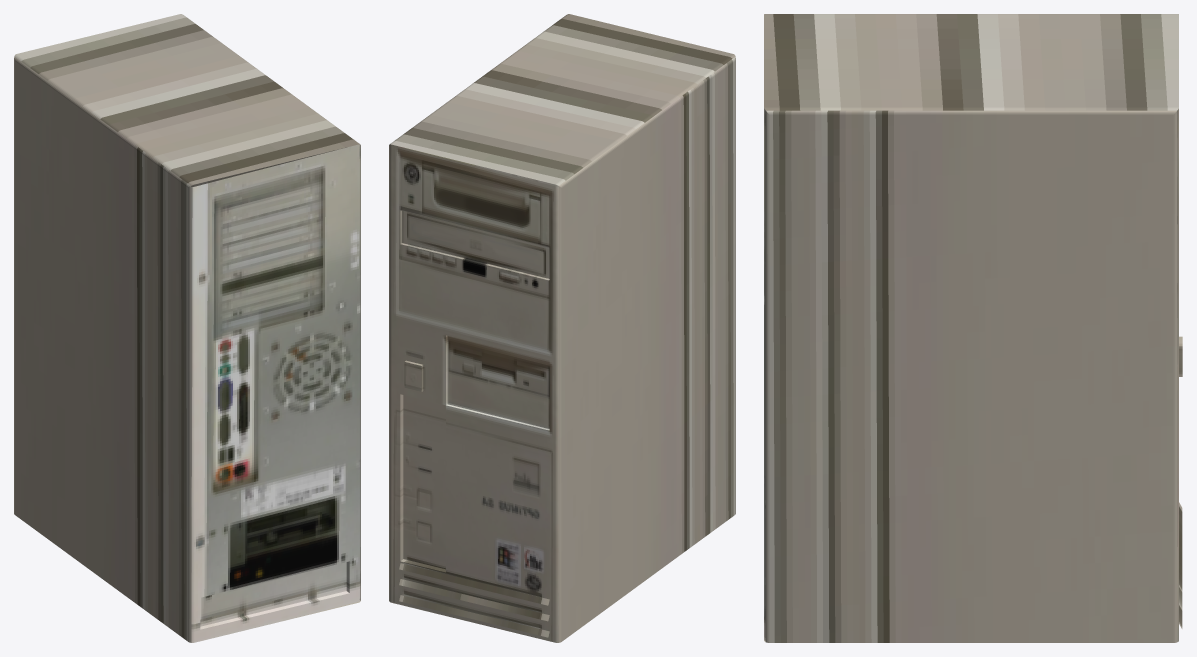
File: ps1-style-low-poly-cpu.glb
3 views of the same model, side by side, from view 1: azimuth 30°, elevation 25°; view 2: azimuth 150°, elevation 25°; view 3: azimuth 270°, elevation 25° (orthographic). The views are drawn at different scales.
Parts seen in each view (by area): view 1: Cube; view 2: Cube; view 3: Cube.
Part boxes in pixels (box(x1,y1,x2,y2)): Cube: box(14, 14, 360, 642); Cube: box(389, 14, 735, 642); Cube: box(764, 14, 1182, 642).
Size of the model in its own units: 2 by 5.1 by 3.63.
Materials: 1 (1 with a texture image).
